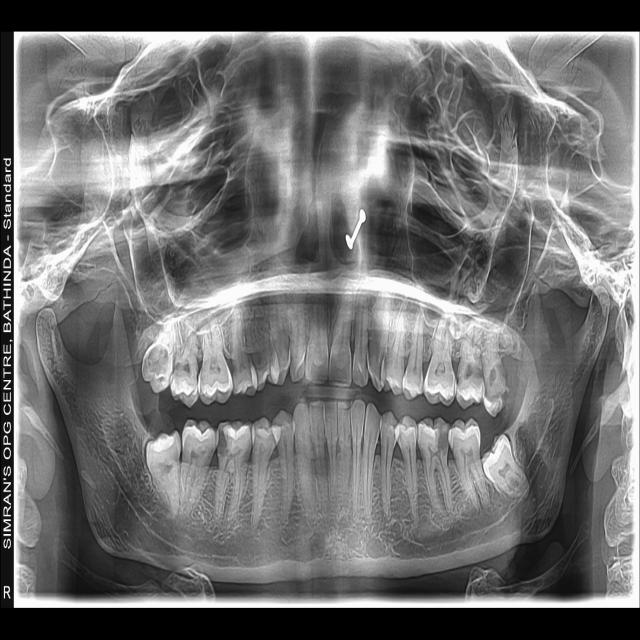impacted tooth: (482, 434, 529, 499), (146, 432, 181, 517)
